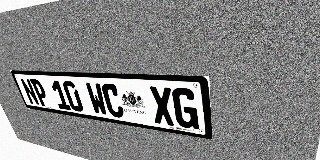0: (61, 81, 84, 112)
1: (49, 80, 71, 110)
C: (100, 83, 125, 119)
G: (171, 87, 199, 130)
N: (20, 78, 40, 106)
P: (30, 79, 51, 107)
W: (85, 82, 109, 116)
X: (149, 86, 175, 126)
